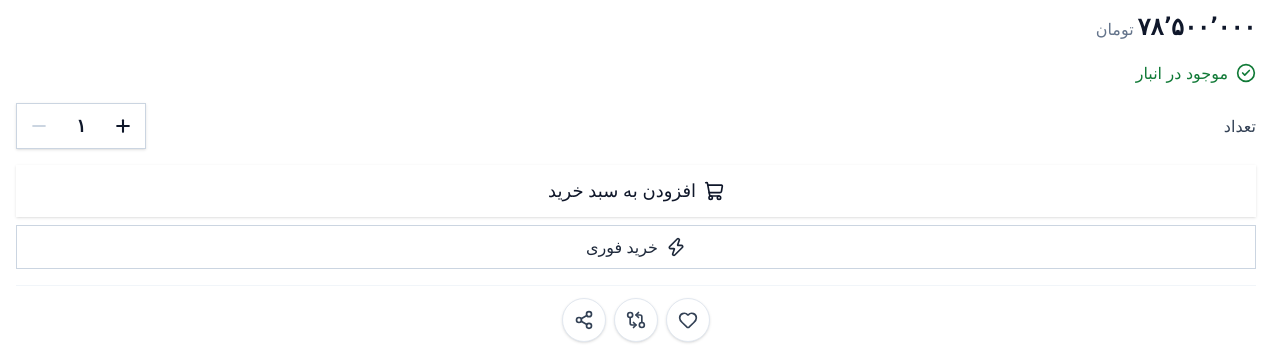
Test: BuyBox: buy now › stays busy after a successful buy now until the page goes, so it never adds twice
The width and height of the screenshot is (1273, 360).
Later steps or results of the test are not shown.
Click the button "خرید فوری" at (636, 247), box [16,225,1256,269]
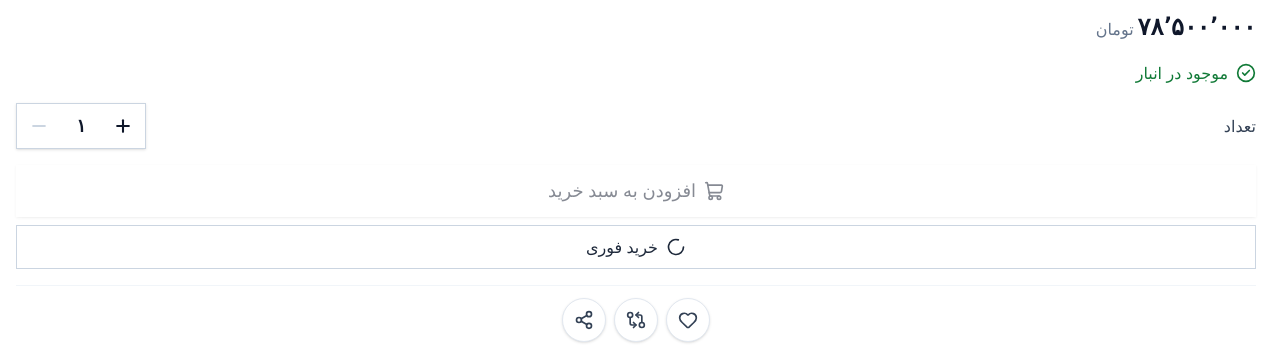
expect the button "خرید فوری" is disabled: met, box [16,225,1256,269]
expect the button "افزودن به سبد خرید" is disabled: met, box [16,165,1256,217]
